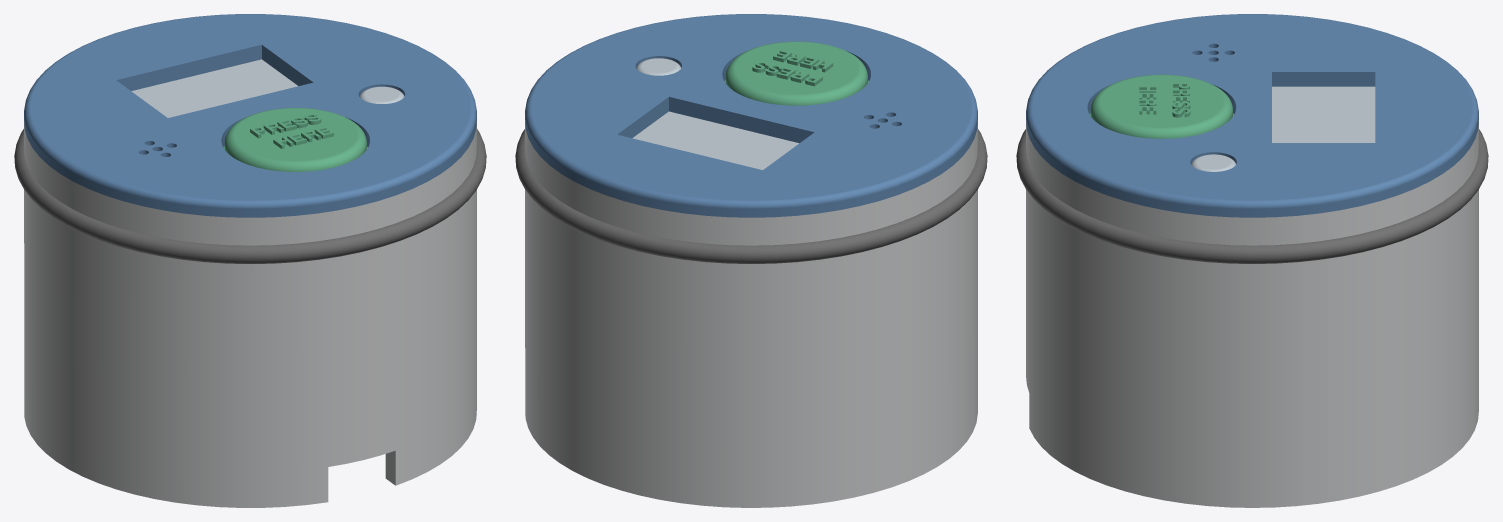
The model's file is step_03.glb.
The picture shows the model from 3 angles, left to right: view 1: azimuth 30°, elevation 25°; view 2: azimuth 150°, elevation 25°; view 3: azimuth 270°, elevation 25°; orthographic projection.
Visible parts, largest first — view 1: part__pod column, part__pod cap, part__pod O-ring, part__PRESS HERE button, part__display window, part__light lens; view 2: part__pod column, part__pod cap, part__pod O-ring, part__PRESS HERE button, part__display window, part__light lens; view 3: part__pod column, part__pod cap, part__pod O-ring, part__PRESS HERE button, part__display window, part__light lens.
Boxes of the visible parts, x1,y1,x2,y2 form: part__pod column: (24,121,476,507); part__pod cap: (24,14,476,217); part__pod O-ring: (14,129,486,263); part__PRESS HERE button: (223,108,367,171); part__display window: (131,59,298,117); part__light lens: (359,86,404,103); part__pod column: (525,120,977,507); part__pod cap: (525,14,977,217); part__pod O-ring: (515,129,987,263); part__PRESS HERE button: (724,41,868,105); part__display window: (632,111,798,169); part__light lens: (636,58,681,75); part__pod column: (1026,120,1478,507); part__pod cap: (1026,14,1478,217); part__pod O-ring: (1016,129,1488,263); part__PRESS HERE button: (1089,74,1233,138); part__display window: (1272,86,1375,142); part__light lens: (1191,154,1235,171).
Size of the model in its own units: 72.95 by 53.6 by 72.98.
